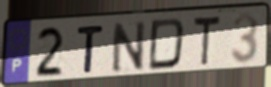2: (35, 24, 68, 80)
3: (229, 10, 261, 67)
D: (146, 16, 188, 72)
N: (111, 19, 147, 75)
T: (191, 14, 222, 68), (76, 23, 106, 75)
